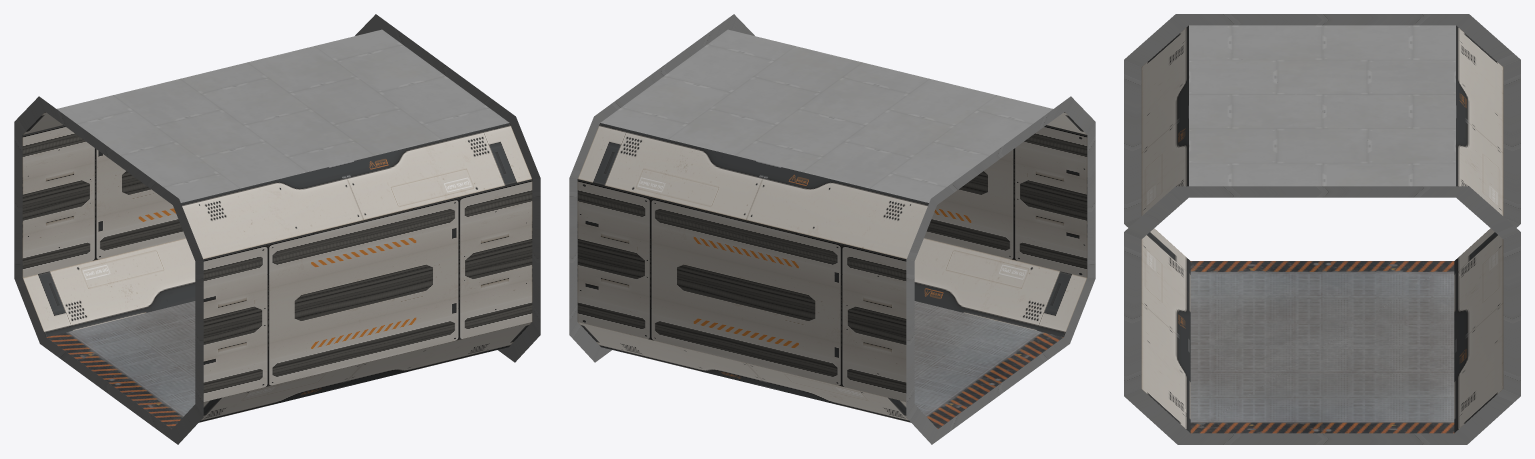
File: lab_section.FBX
3 renders of one model, left to right at view 1: azimuth 30°, elevation 25°; view 2: azimuth 150°, elevation 25°; view 3: azimuth 270°, elevation 25°, orthographic. The views are drawn at different scales.
Visible parts, largest first — view 1: Tonnel; view 2: Tonnel; view 3: Tonnel.
Part boxes in pixels (x1,y1,x2,y2): Tonnel: [14, 14, 540, 444]; Tonnel: [569, 14, 1095, 444]; Tonnel: [1124, 14, 1520, 444].
Bounding box in the file's own units: 2.74 × 1.92 × 2.67.
